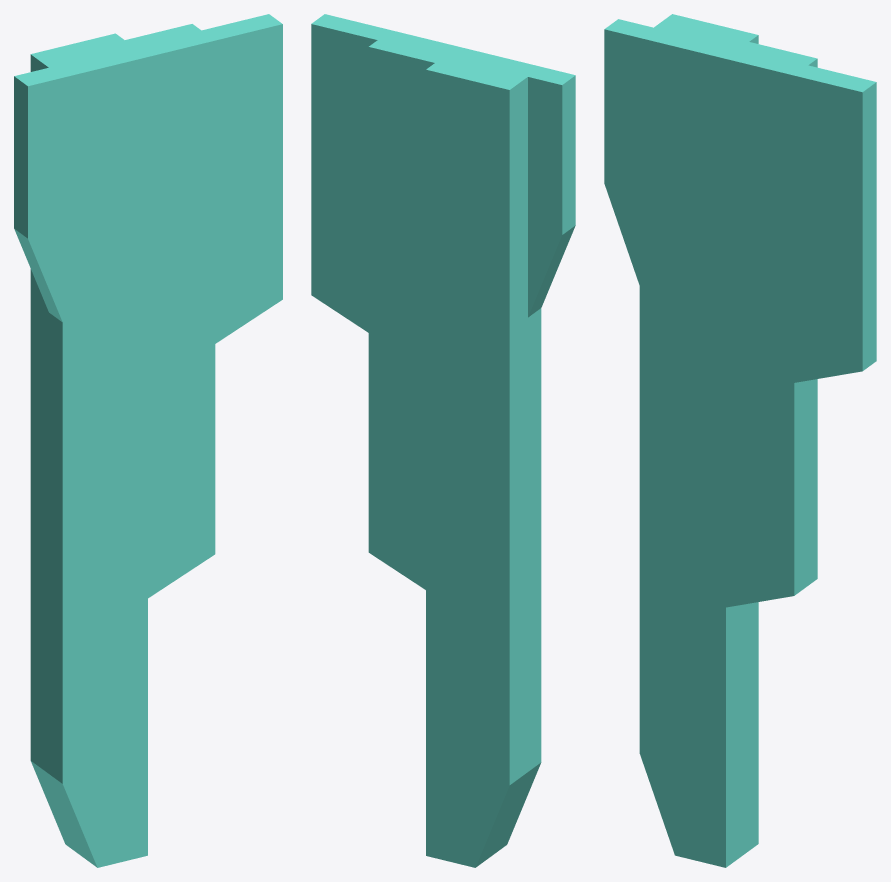
The model's file is hanging_moss.glb.
3 renders of one model, left to right at view 1: azimuth 30°, elevation 25°; view 2: azimuth 150°, elevation 25°; view 3: azimuth 330°, elevation 25°, orthographic. The views are drawn at different scales.
Parts seen in each view (by area): view 1: hanging_moss; view 2: hanging_moss; view 3: hanging_moss.
Part boxes in pixels (x1=…): hanging_moss: x1=14, y1=14, x2=282, y2=867; hanging_moss: x1=311, y1=14, x2=575, y2=867; hanging_moss: x1=604, y1=14, x2=876, y2=867.
Bounding box in the file's own units: 0.1598 × 0.4785 × 0.035.
